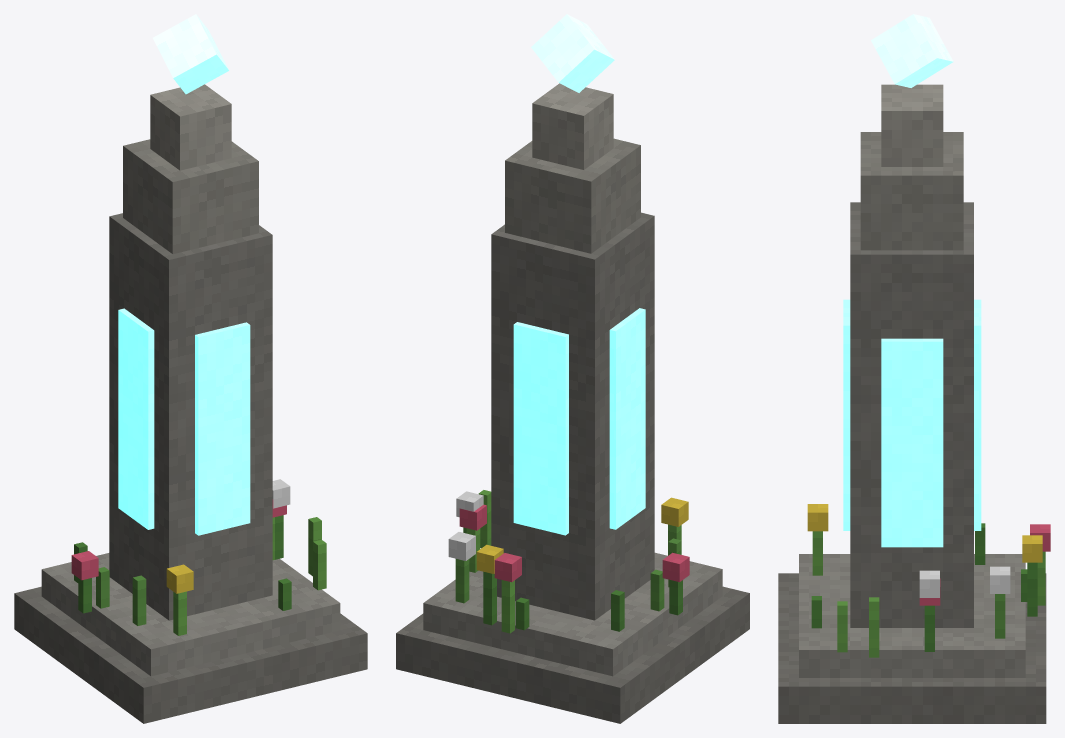
File: obelisk_prairie.glb
3 views of the same model, side by side, from view 1: azimuth 30°, elevation 25°; view 2: azimuth 150°, elevation 25°; view 3: azimuth 270°, elevation 25° (orthographic). The views are drawn at different scales.
Parts seen in each view (by area): view 1: Obelisk; view 2: Obelisk; view 3: Obelisk.
Boxes of the visible parts, left/top/right/bottom form: Obelisk: left=14, top=14, right=367, bottom=723; Obelisk: left=396, top=14, right=749, bottom=723; Obelisk: left=778, top=14, right=1050, bottom=723.
Bounding box in the file's own units: 1.31 × 3.51 × 1.32.
Materials: 13 (13 with a texture image).
